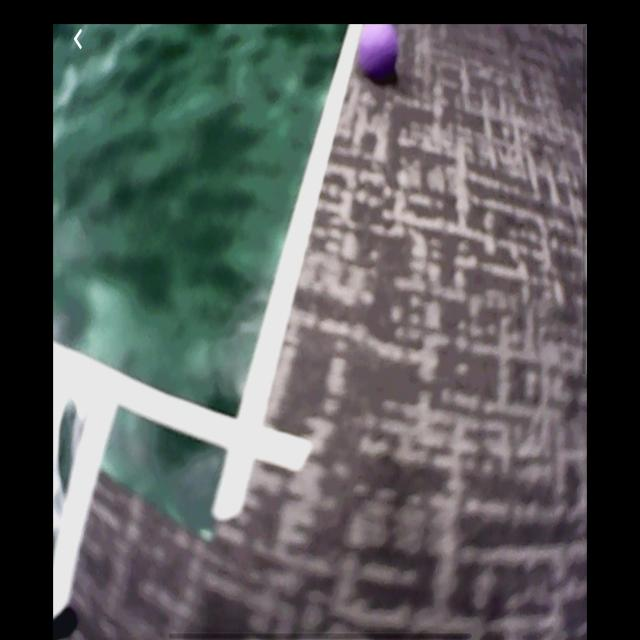ball: (358, 23, 400, 86)
